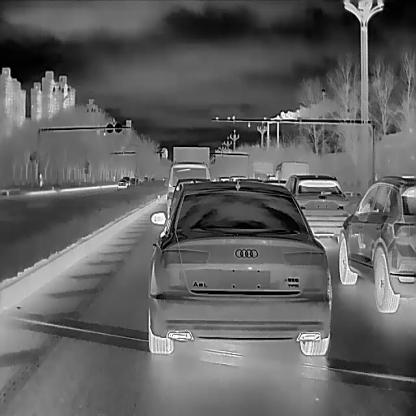car: (147, 181, 331, 355), (338, 175, 416, 310), (283, 174, 349, 240), (168, 161, 209, 218), (276, 160, 306, 192), (248, 159, 272, 188), (118, 178, 127, 188)
